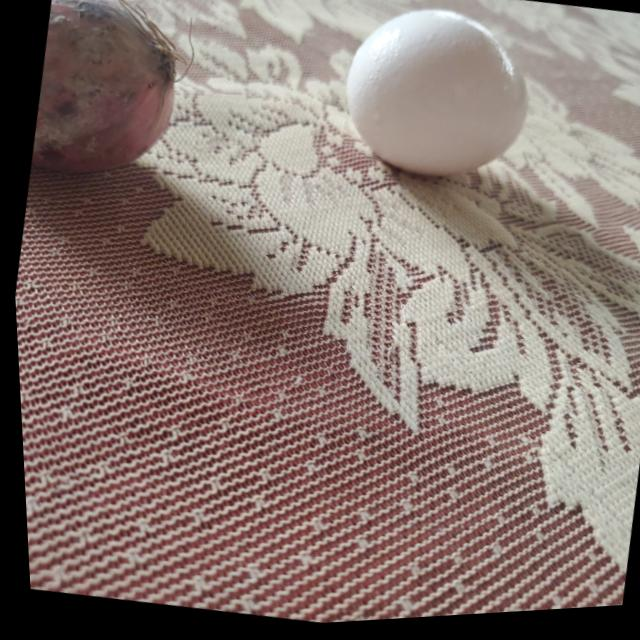egg: (331, 0, 548, 194)
onion: (22, 0, 200, 189)
